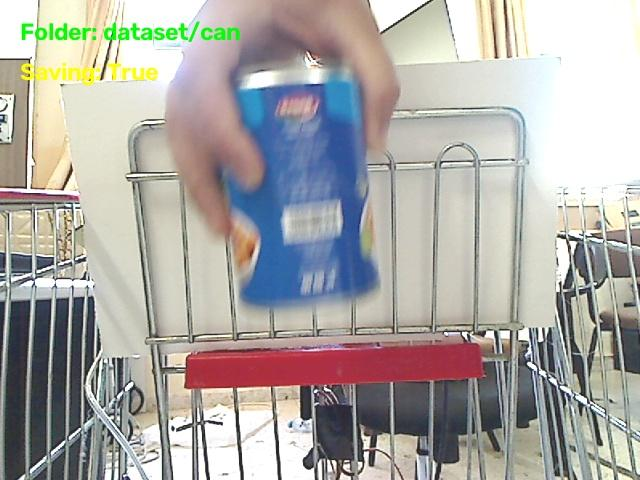can: (227, 67, 378, 305)
